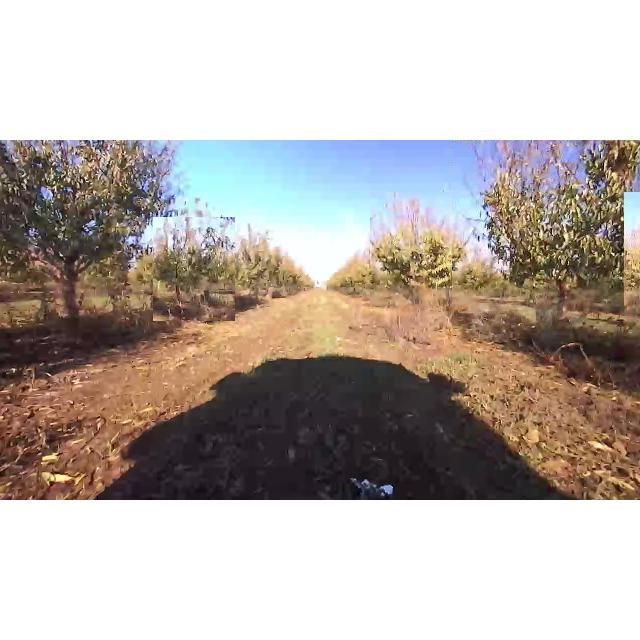direk: (1, 142, 186, 330), (452, 142, 640, 326), (370, 192, 468, 306), (153, 217, 235, 321)
